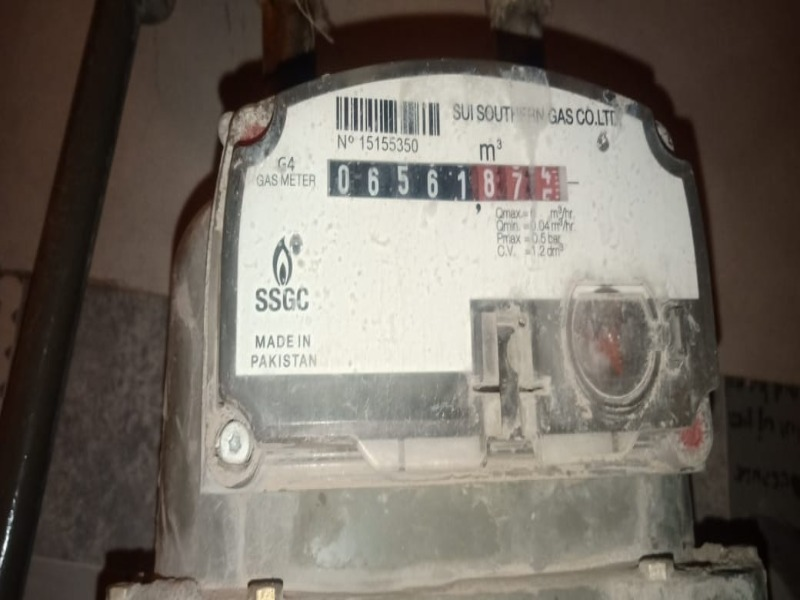ssgc: (324, 157, 566, 205)
